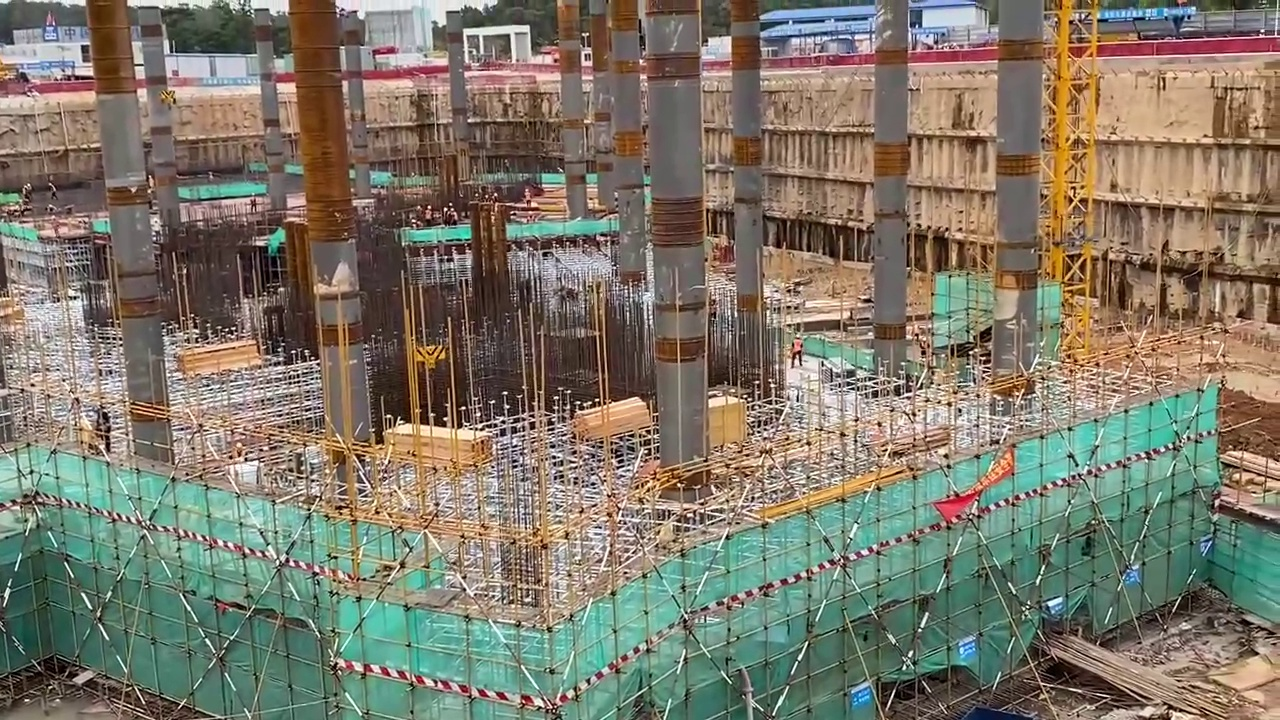hook: (416, 343, 443, 368)
person: (789, 333, 804, 371)
wood: (385, 420, 492, 463), (571, 397, 654, 438), (174, 341, 275, 373)
